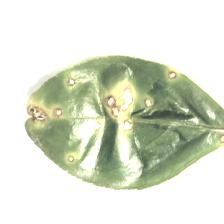canker: (18, 73, 186, 138)
